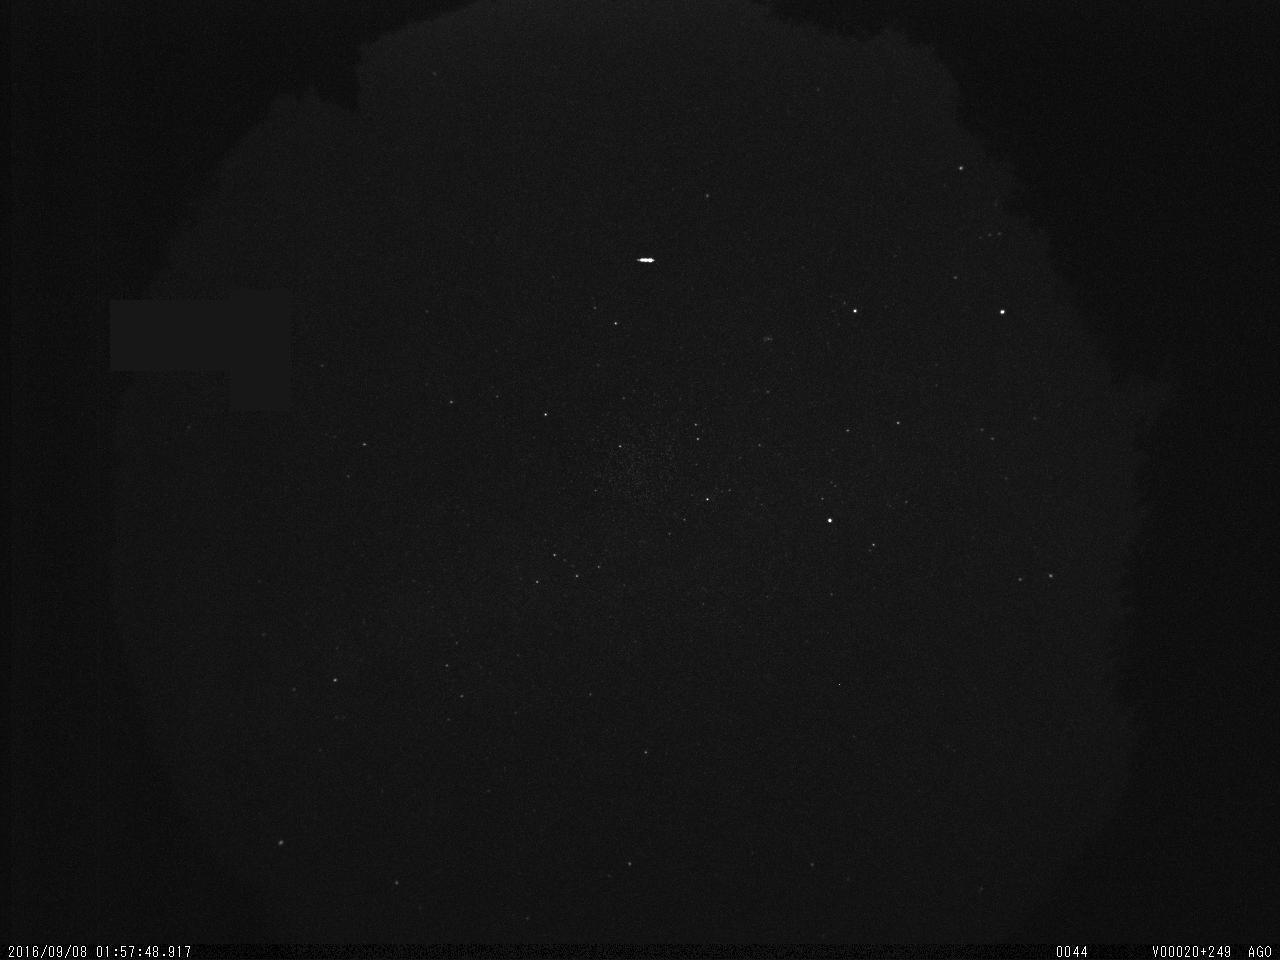Meteor: (636, 255, 655, 263)
